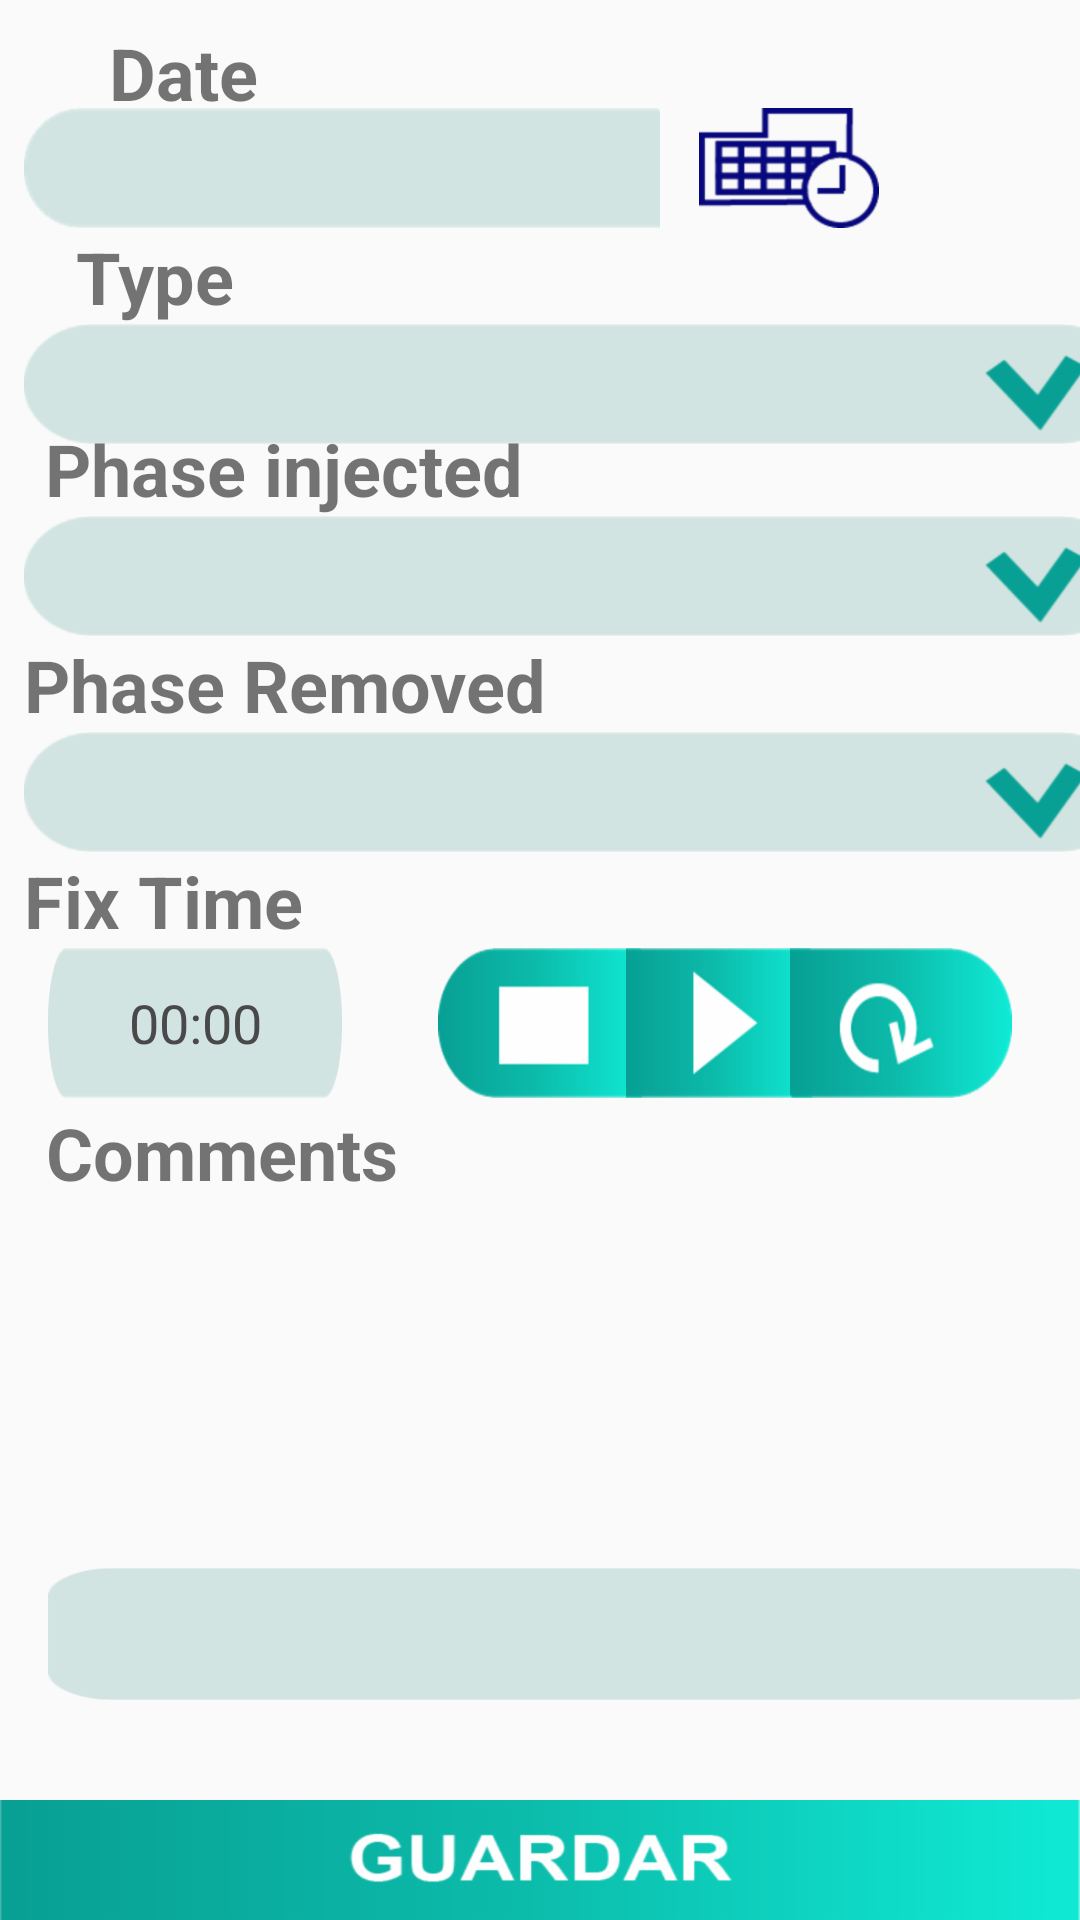

Point at icon controls on the screen. Image size 1080 × 1920, points as (x=x, y=y).
calendar: (x=789, y=168)
play: (x=719, y=1023)
restart: (x=901, y=1023)
stop: (x=540, y=1023)
